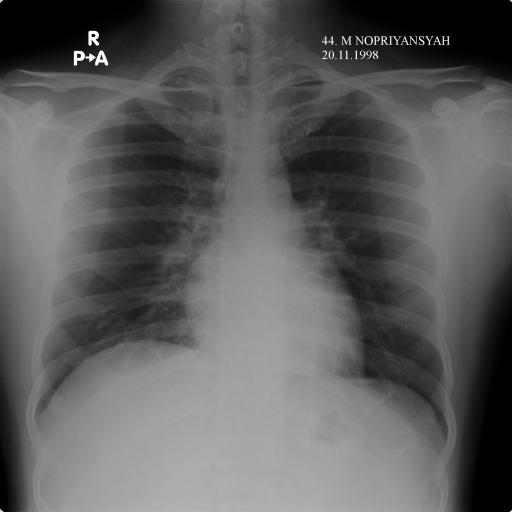normal: (24, 42, 458, 457)
